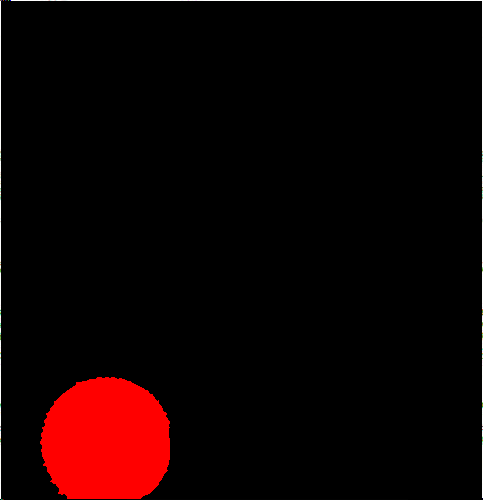stamp: (39, 373, 172, 500)
